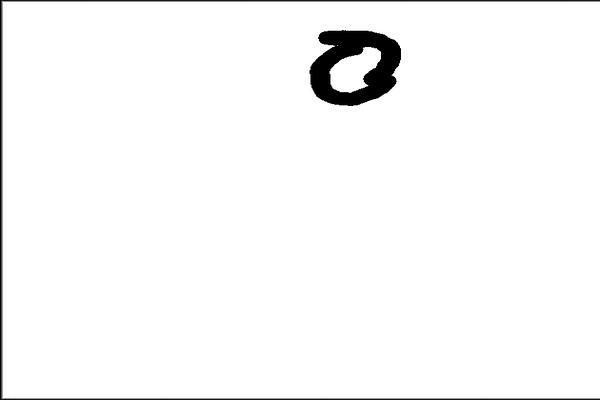O: (288, 15, 408, 116)
